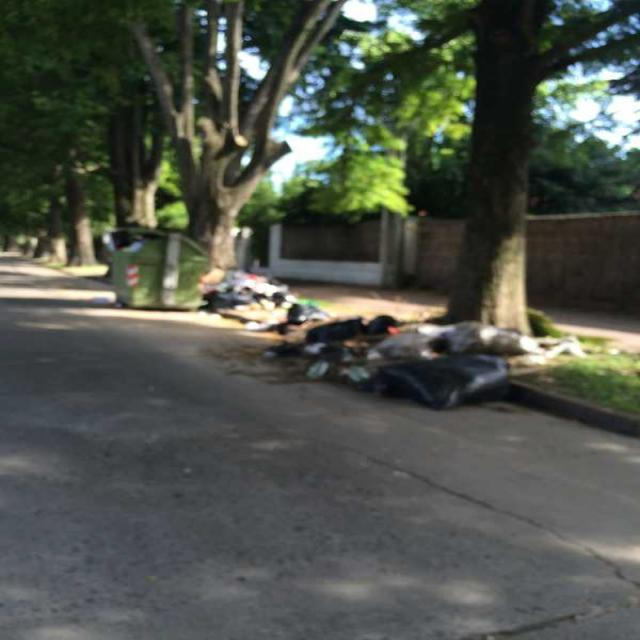garbage: (278, 309, 524, 413), (188, 246, 298, 334), (520, 324, 594, 366), (82, 289, 126, 317)
